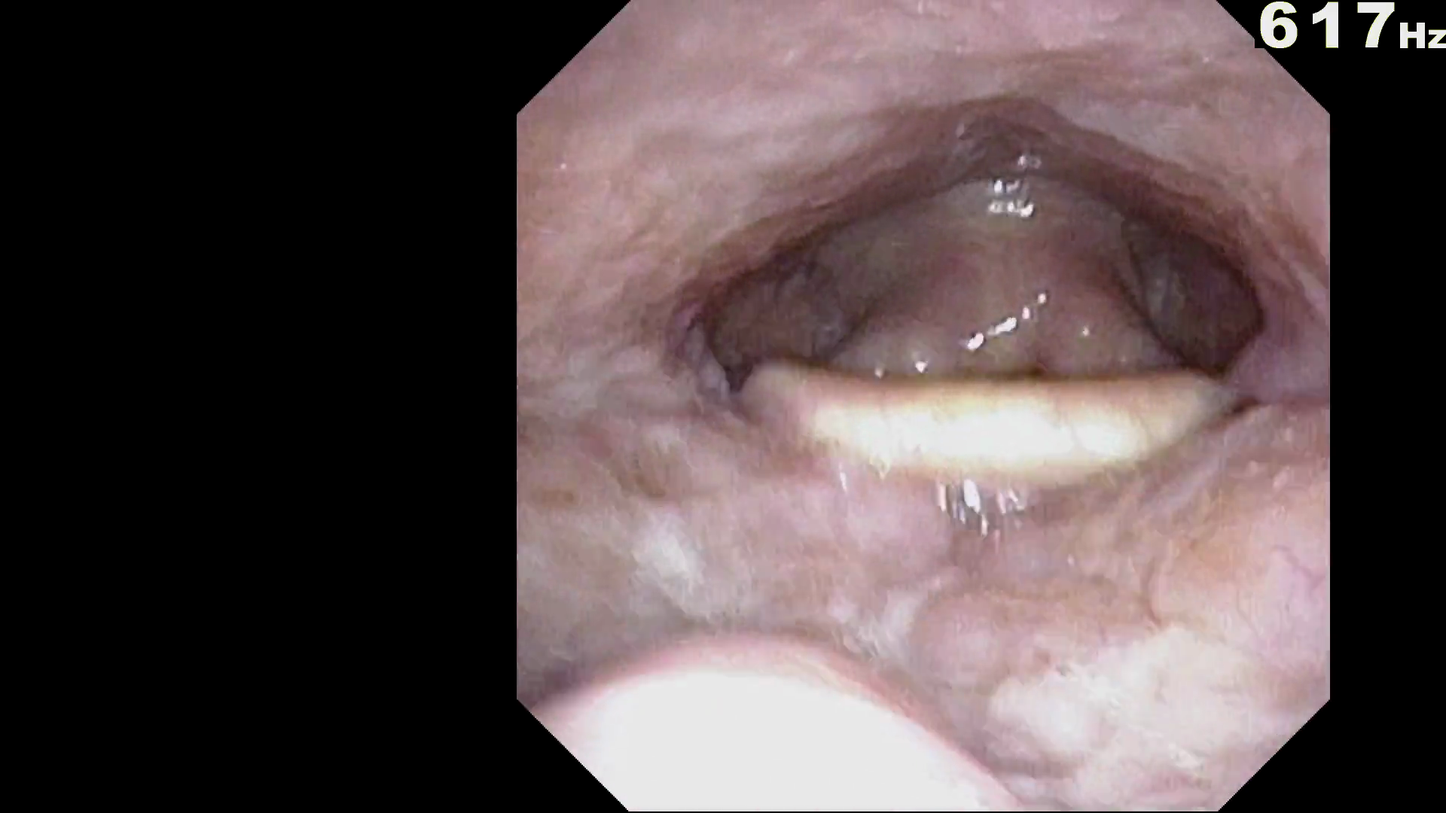epiglottis: (744, 321, 1226, 509)
